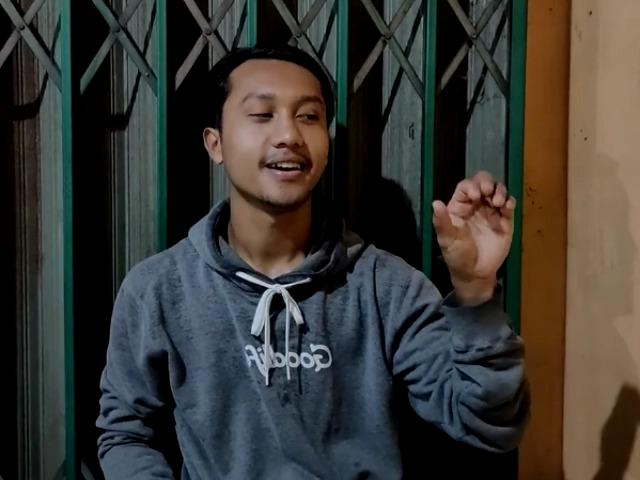S: (429, 166, 521, 278)
